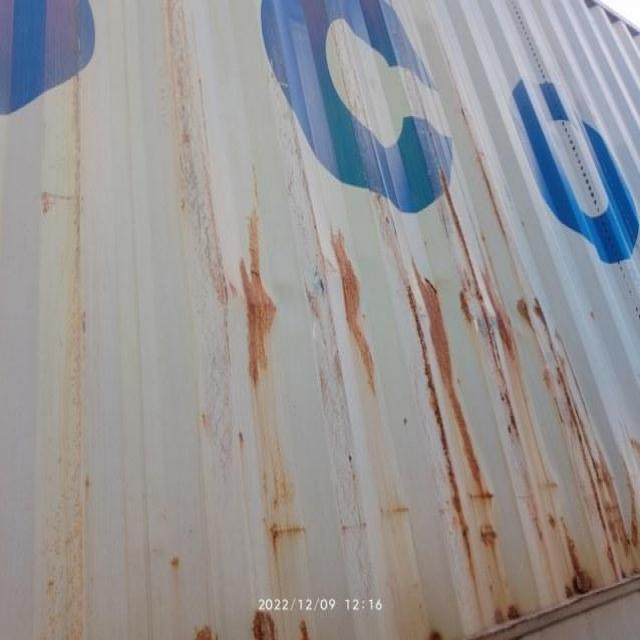rust: (427, 280, 456, 409), (516, 288, 552, 347), (245, 274, 277, 340), (568, 560, 598, 591)
